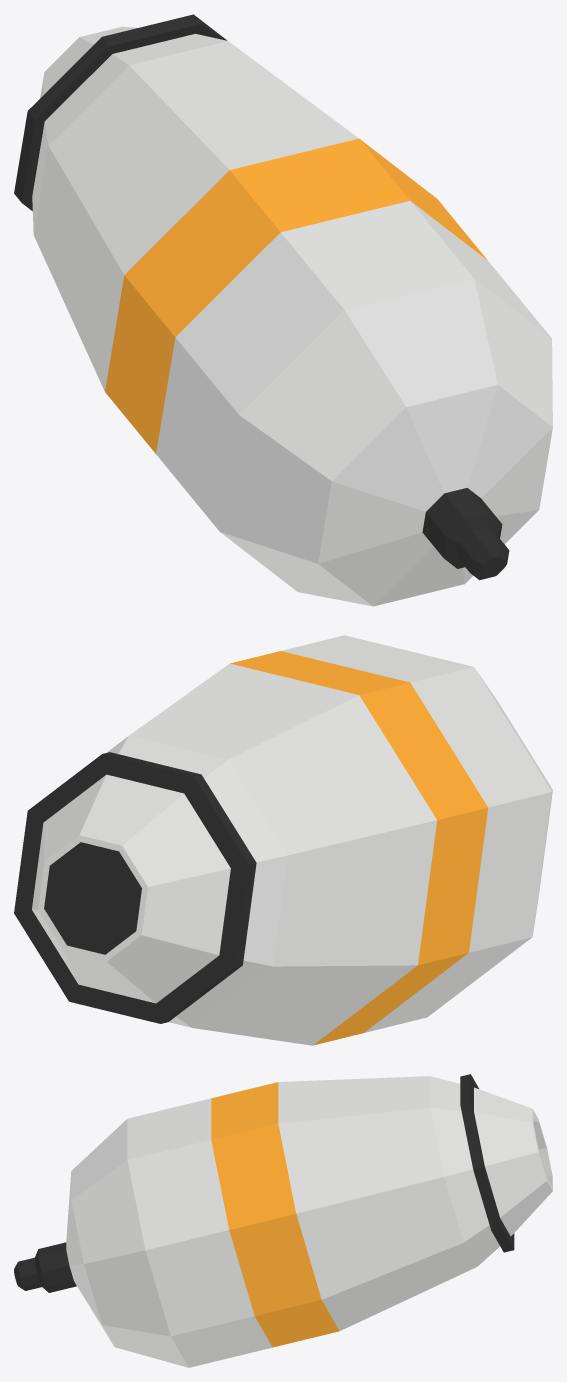
The model's file is car-truck-cement-mixer.glb.
The picture shows the model from 3 angles, top to bottom: view 1: azimuth 30°, elevation 25°; view 2: azimuth 150°, elevation 25°; view 3: azimuth 270°, elevation 25°; orthographic projection. The views are drawn at different scales.
Parts seen in each view (by area): view 1: car-truck-cement-mixer; view 2: car-truck-cement-mixer; view 3: car-truck-cement-mixer.
Part boxes in pixels (x1=…): car-truck-cement-mixer: x1=14, y1=14, x2=552, y2=606; car-truck-cement-mixer: x1=14, y1=635, x2=552, y2=1045; car-truck-cement-mixer: x1=14, y1=1074, x2=552, y2=1367.
Size of the model in its own units: 2.05 by 2.47 by 4.66.
Materials: 1 (1 with a texture image).
